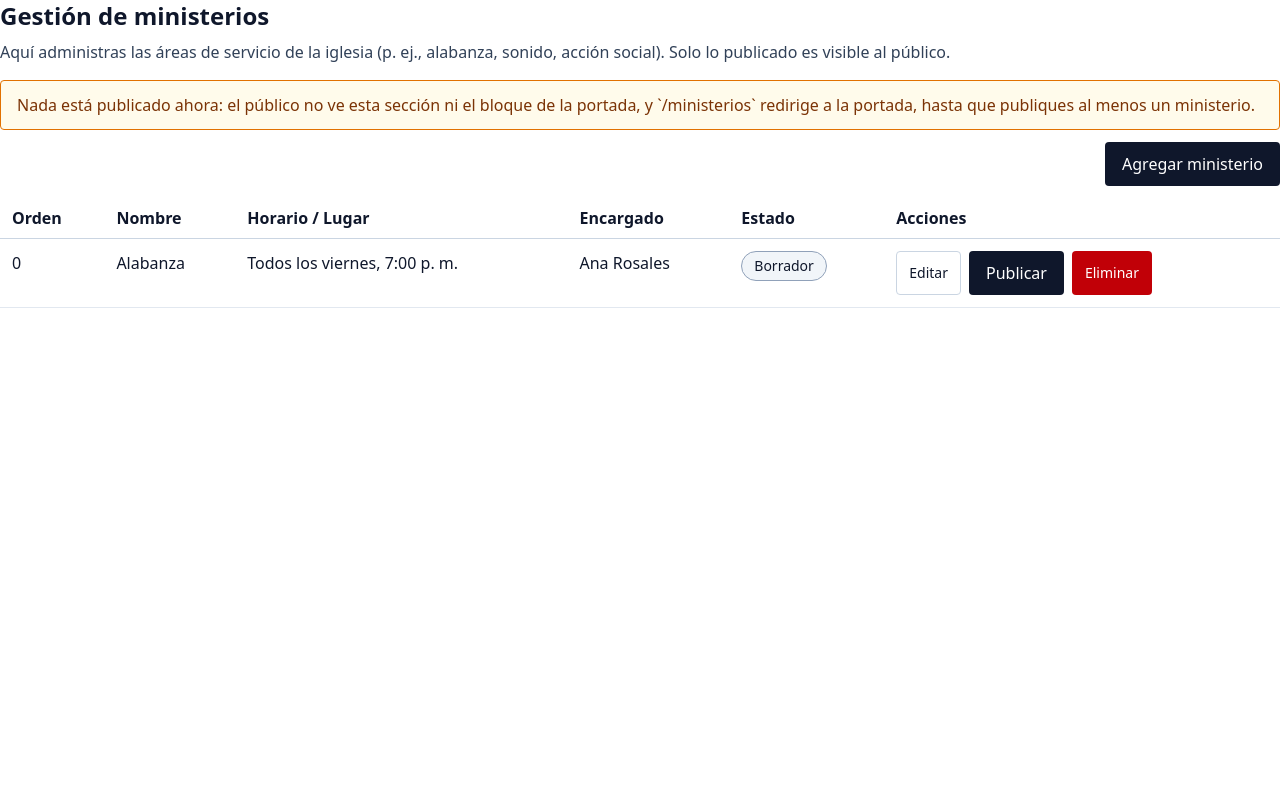
Test: MinistryForm · alta con privacidad por defecto (D-13/US2) › editar precarga los datos y la última decisión del interruptor
The image size is (1280, 800).
Click the button "Editar" at (929, 273), box [896,251,961,295]
(page scrolled)
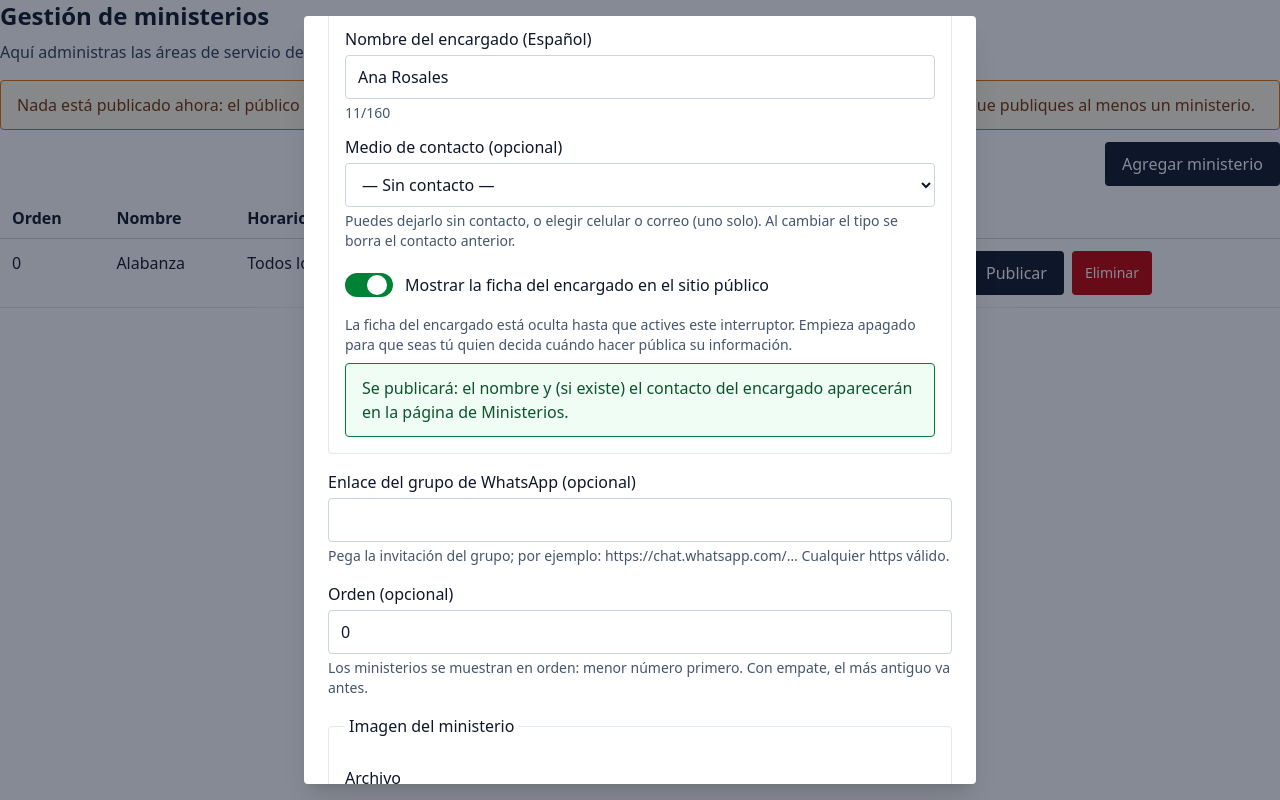
Now the field labelled "Nombre del encargado (Español)" holds "Ana Rosales", box [345,55,935,99]
Now the text "Se publicará:" is shown, box [362,377,912,423]
